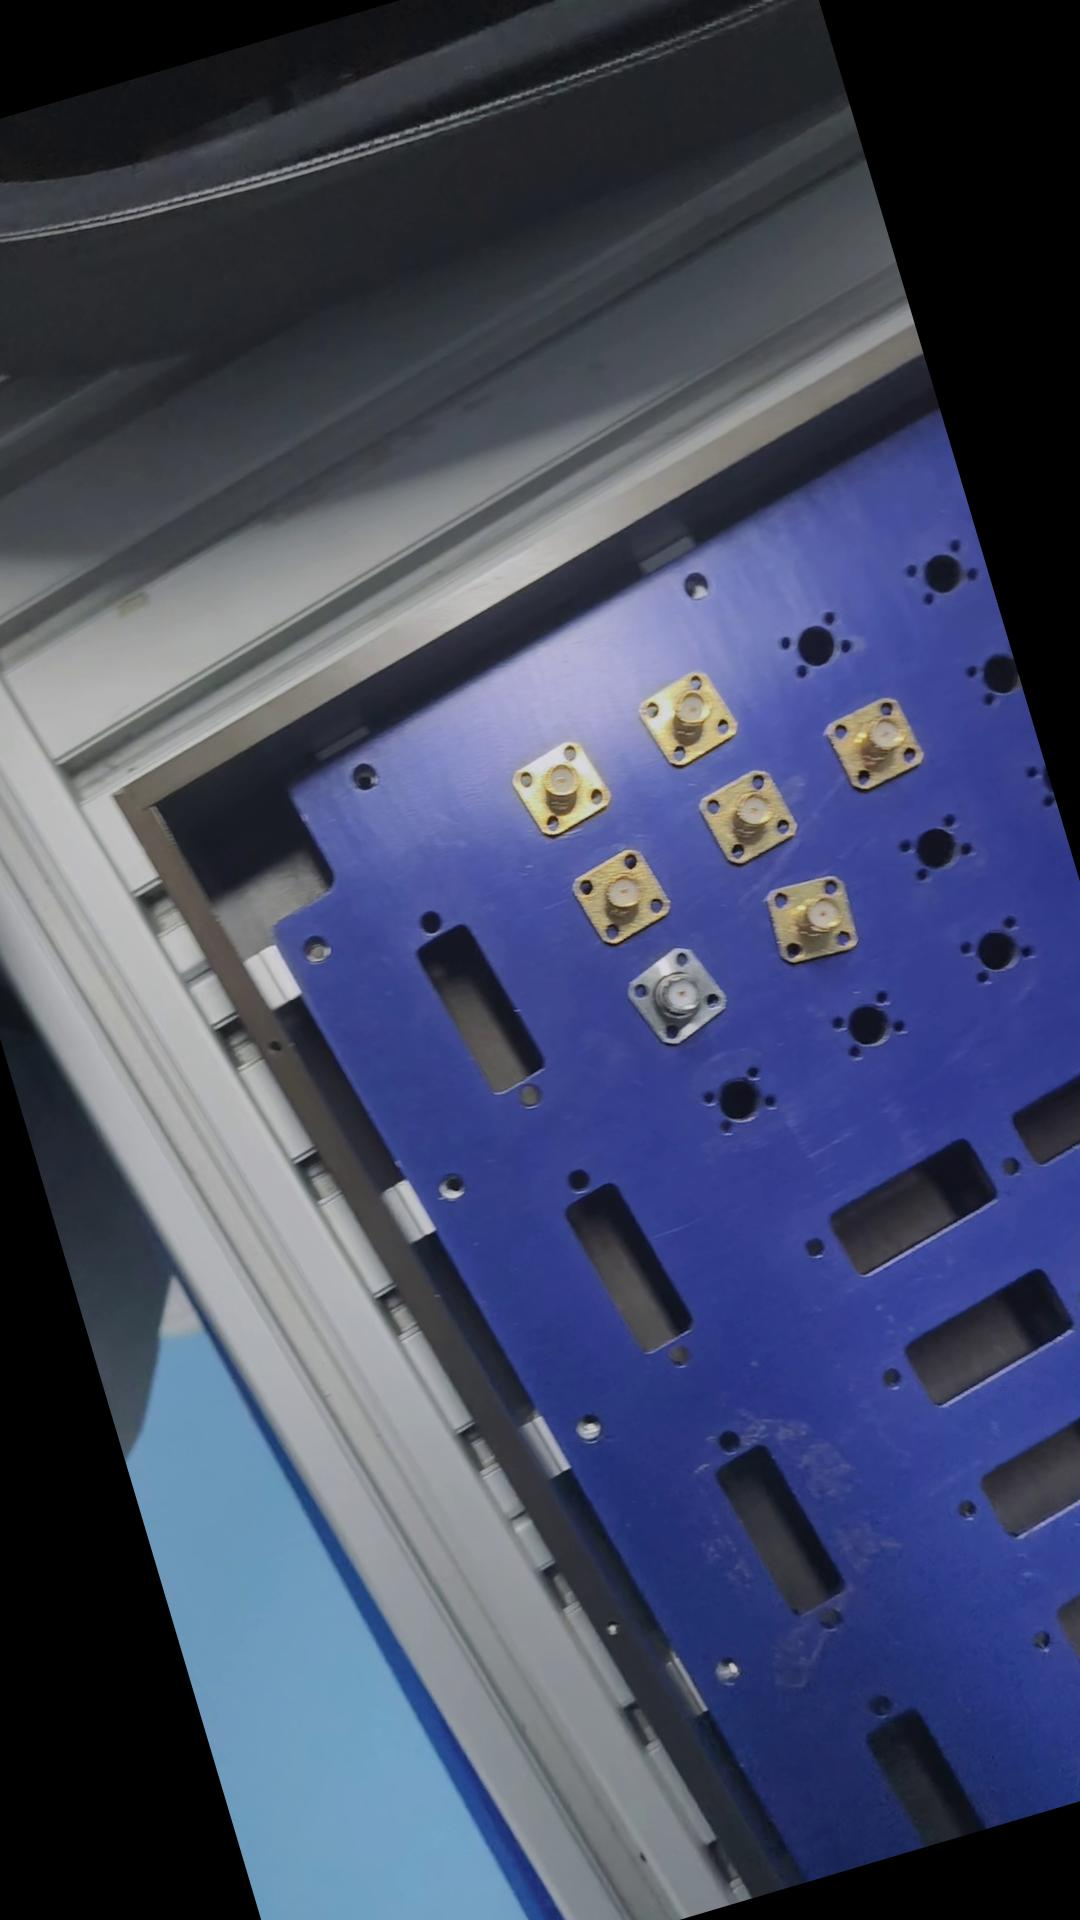SMA: (502, 731, 628, 847), (756, 858, 872, 978), (620, 940, 736, 1055), (695, 758, 808, 872), (564, 844, 680, 953), (636, 662, 746, 773), (822, 690, 931, 796)
